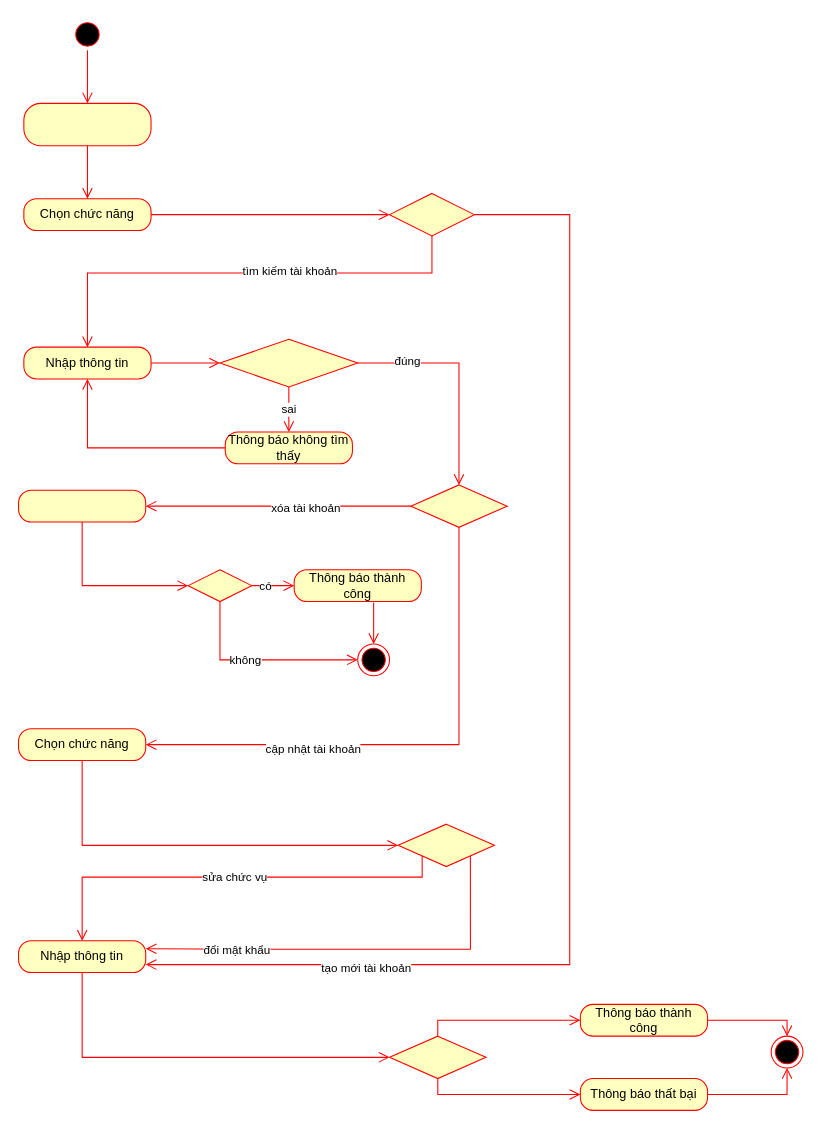
Some shapes in this 821 by 1137 pixel diagram are drawn without their labels. Here are the shapes that lost their labels. From the top down, the centre of each, then its label:
At point (87, 124): "Truy cập quản lý tài khoản và phân quyền".
At point (288, 362): "Kiểm tra thông tin".
At point (81, 505): "Nhấn xác nhận".
At point (437, 1057): "hợp lệ ?".
